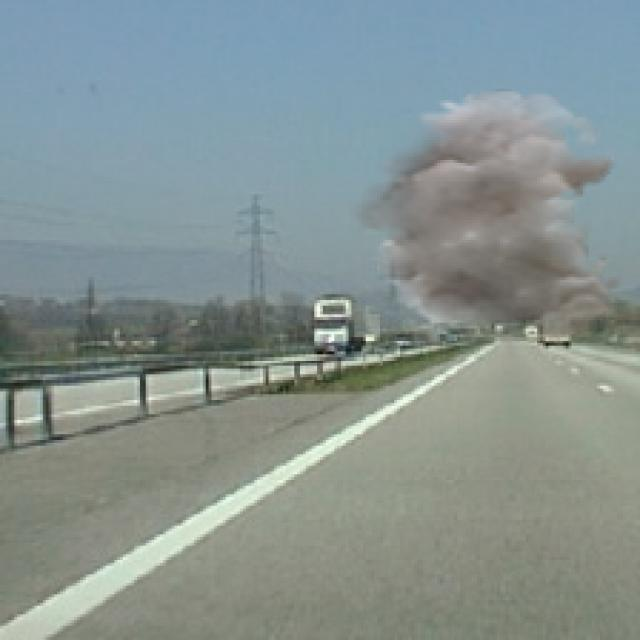smoke: (343, 89, 623, 340)
